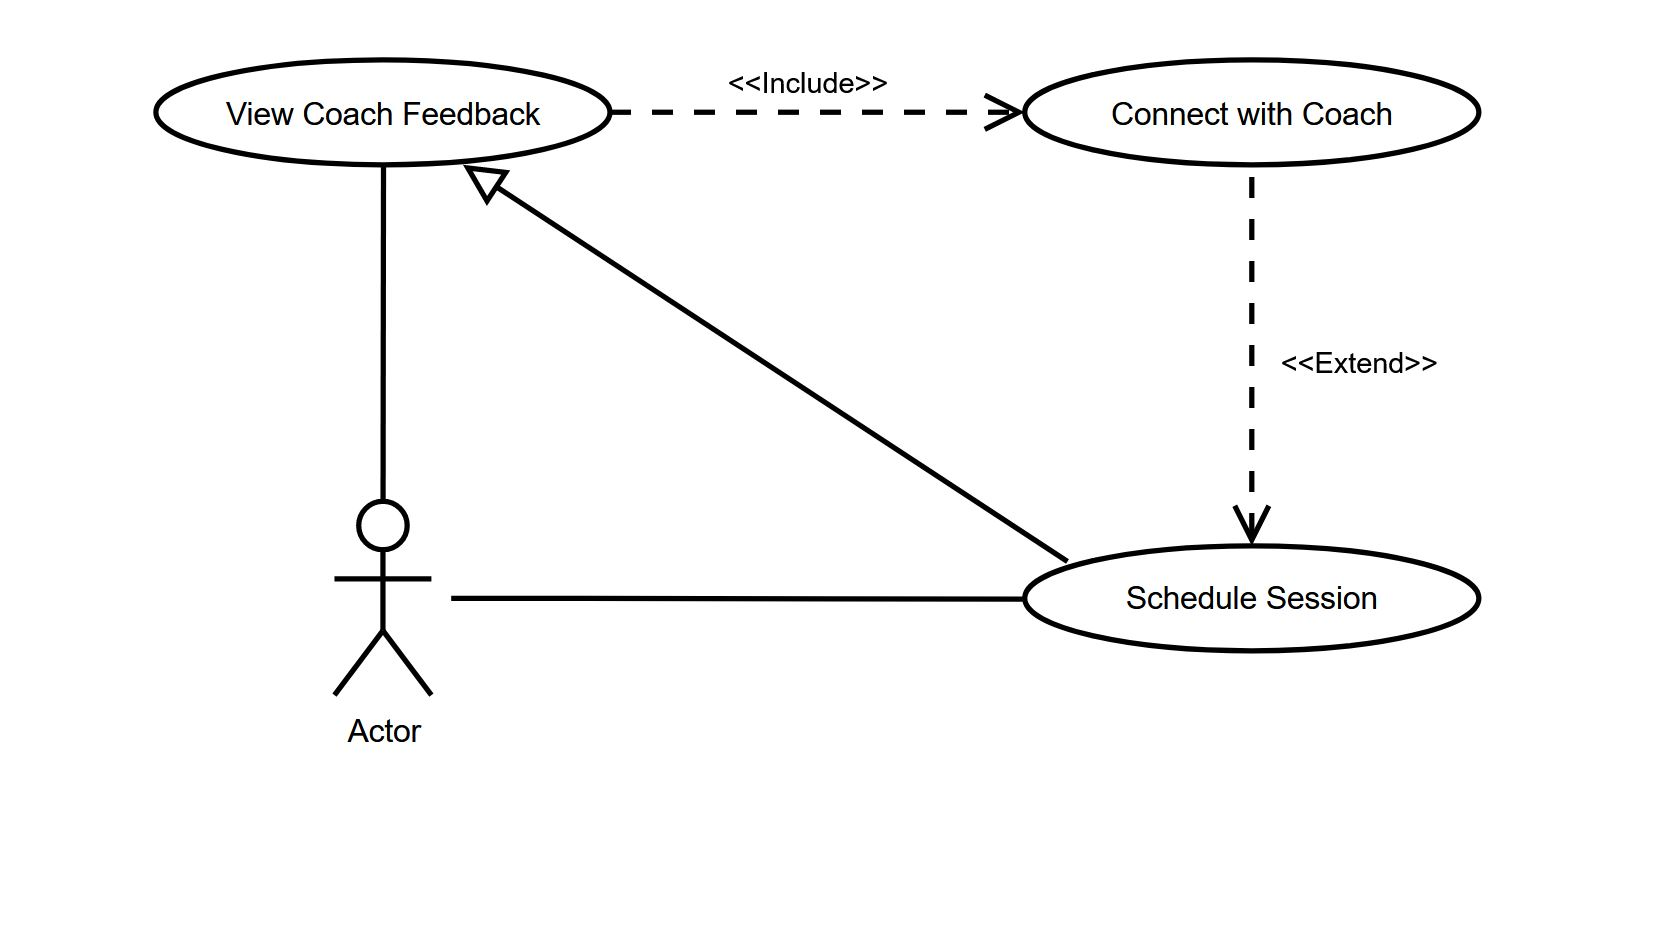actor: (320, 496, 440, 701)
association: (462, 161, 1066, 561), (450, 570, 1022, 626), (349, 168, 420, 492), (612, 88, 1022, 140), (1227, 170, 1278, 542)
text: (1114, 568, 1392, 629), (216, 92, 547, 137), (1110, 94, 1402, 133), (1283, 335, 1434, 386), (712, 67, 892, 102), (326, 711, 437, 754)
use_case: (1019, 55, 1484, 170), (1025, 540, 1482, 657), (151, 55, 612, 169)
